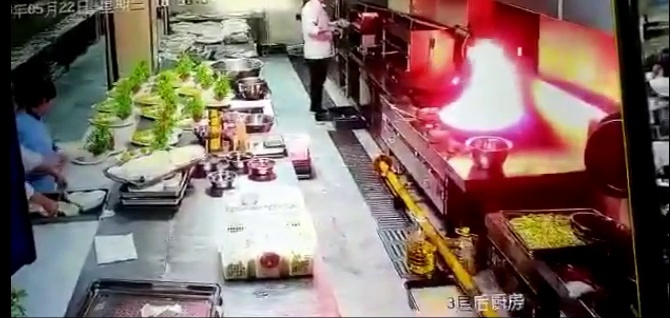fire: (454, 41, 534, 134)
